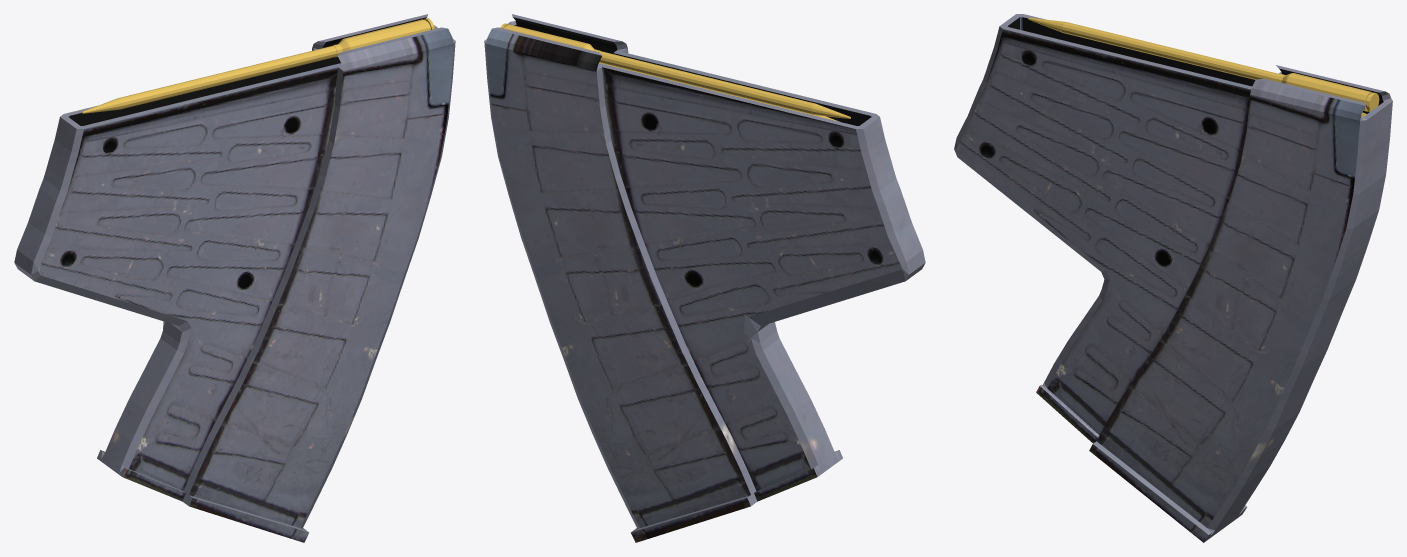
The model's file is fullmag.fbx.
3 renders of one model, left to right at view 1: azimuth 30°, elevation 25°; view 2: azimuth 150°, elevation 25°; view 3: azimuth 330°, elevation 25°, orthographic.
Visible parts, largest first — view 1: Cube.002, Cylinder.003; view 2: Cube.002, Cylinder.003; view 3: Cube.002, Cylinder.003.
Boxes of the visible parts, x1,y1,x2,y2 form: Cube.002: (14, 14, 455, 542); Cylinder.003: (82, 18, 434, 113); Cube.002: (484, 14, 925, 542); Cylinder.003: (500, 23, 850, 118); Cube.002: (954, 14, 1392, 542); Cylinder.003: (1028, 17, 1379, 112).
Size of the model in its own units: 53.68 by 57.55 by 8.61.
3 materials, 1 textured.
